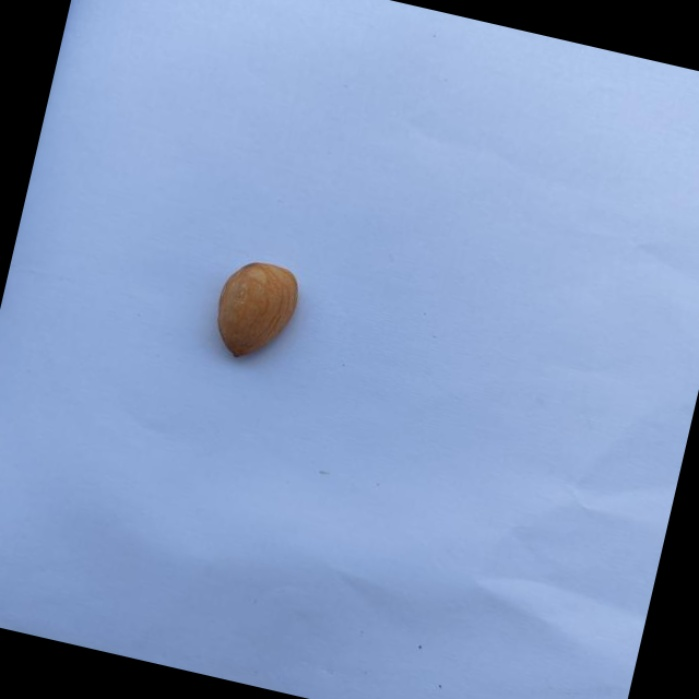grade2: (204, 251, 312, 373)
